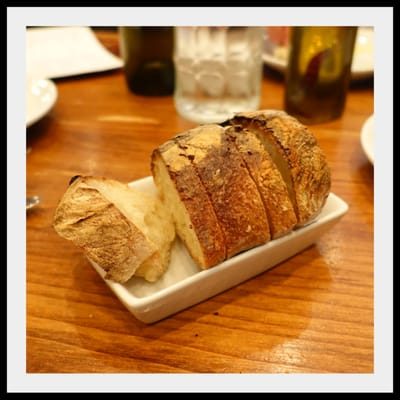pizza: (172, 27, 265, 124), (284, 26, 358, 123), (117, 27, 175, 97)
soup: (150, 110, 334, 271)
